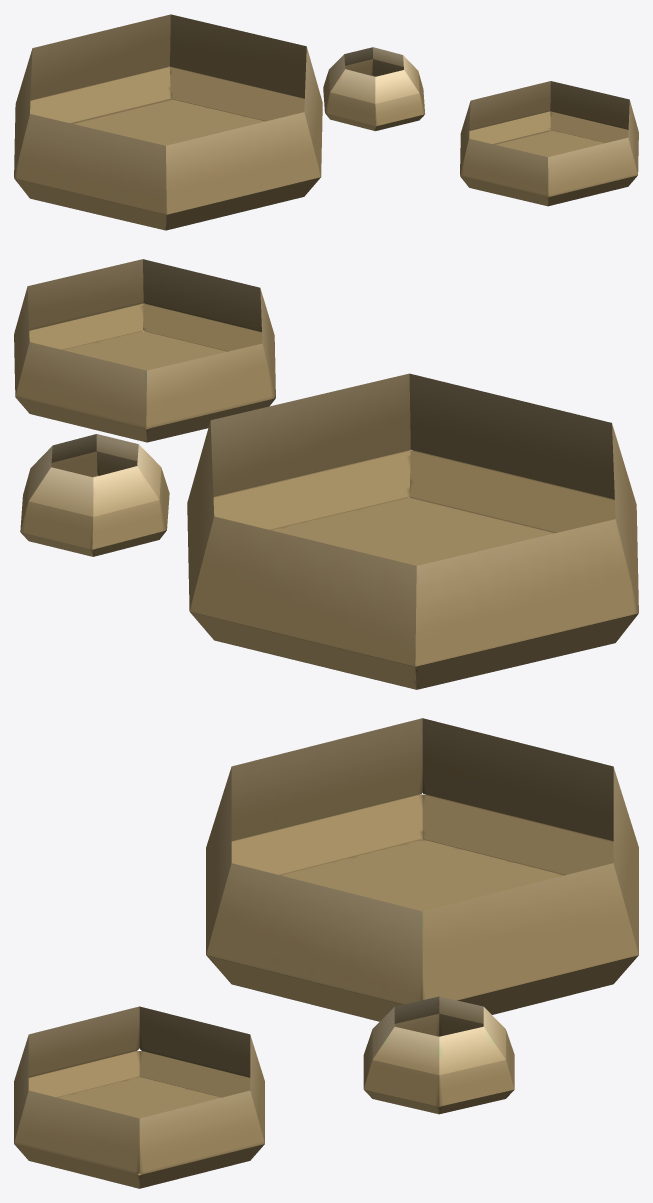
Rendered from mushroomsSprouts.fbx.
The picture shows the model from 3 angles, top to bottom: view 1: azimuth 30°, elevation 25°; view 2: azimuth 150°, elevation 25°; view 3: azimuth 270°, elevation 25°; orthographic projection. The views are drawn at different scales.
Parts seen in each view (by area): view 1: mushroomsGrown; view 2: mushroomsGrown; view 3: mushroomsGrown.
Part boxes in pixels (x1,y1,x2,y2): mushroomsGrown: (14,14,638,230); mushroomsGrown: (14,259,638,689); mushroomsGrown: (14,718,638,1188).
Size of the model in its own units: 32.63 by 5.02 by 23.46.
Materials: 1 (1 with a texture image).
